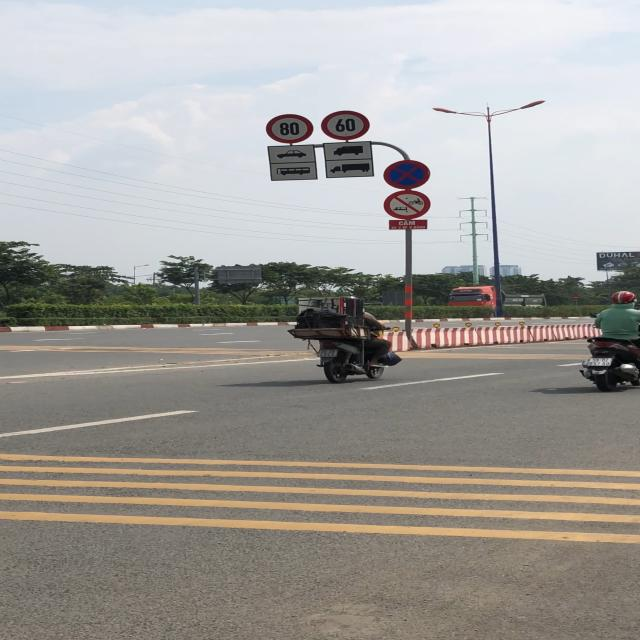Bien bao cam dung xe va do xe: (383, 160, 433, 190)
Bien bao toc do toi da cho phep: (316, 110, 376, 142), (264, 112, 316, 143)
